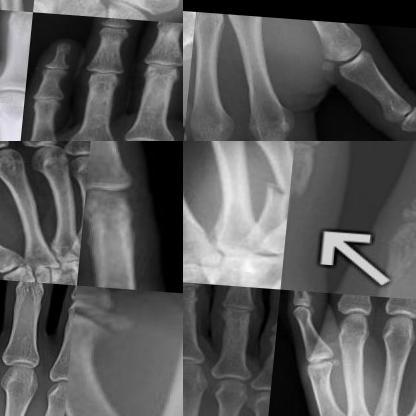fracture: (290, 141, 323, 211), (263, 167, 292, 207)
